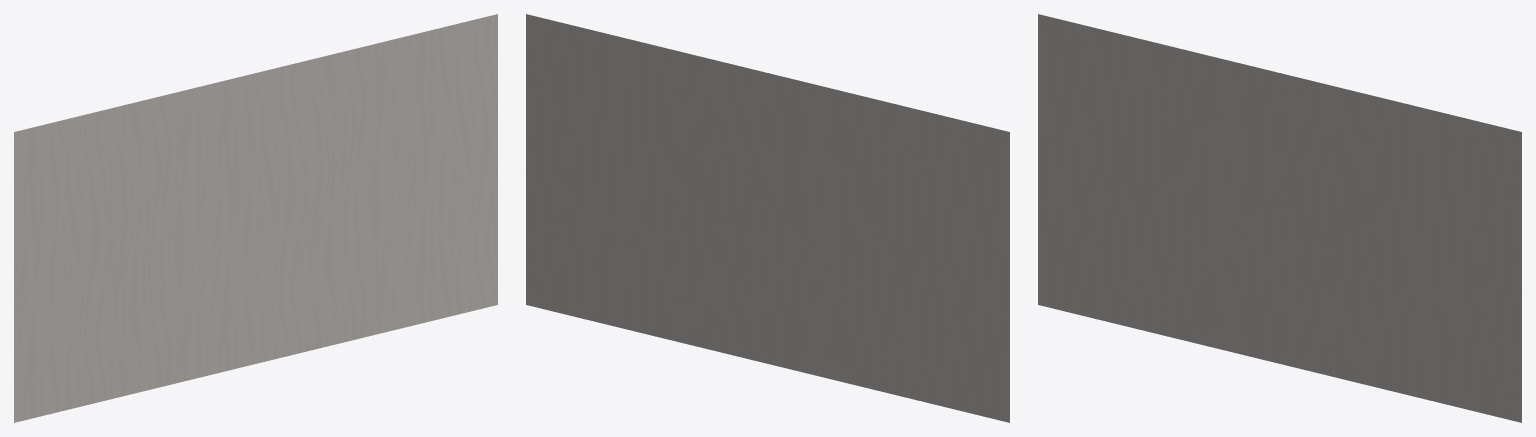
The model's file is kd_stage_135ded_4_85_exterior_piece_0.glb.
The picture shows the model from 3 angles, left to right: view 1: azimuth 30°, elevation 25°; view 2: azimuth 150°, elevation 25°; view 3: azimuth 330°, elevation 25°; orthographic projection.
Parts seen in each view (by area): view 1: kd_stage_135ded_4_85_exterior_piece_0; view 2: kd_stage_135ded_4_85_exterior_piece_0; view 3: kd_stage_135ded_4_85_exterior_piece_0.
Part boxes in pixels (x1,y1,x2,y2): kd_stage_135ded_4_85_exterior_piece_0: [14, 14, 497, 422]; kd_stage_135ded_4_85_exterior_piece_0: [526, 14, 1009, 422]; kd_stage_135ded_4_85_exterior_piece_0: [1038, 14, 1521, 422].
Size of the model in its own units: 1.06 by 0.61 by 0.
1 material, 1 textured.
